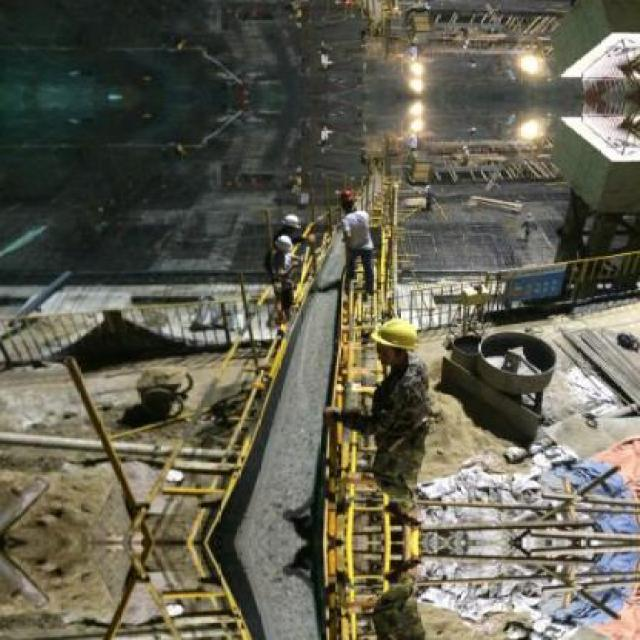helmet: (369, 312, 422, 365), (282, 210, 303, 236), (336, 185, 356, 211), (273, 232, 293, 254), (335, 0, 356, 9)
